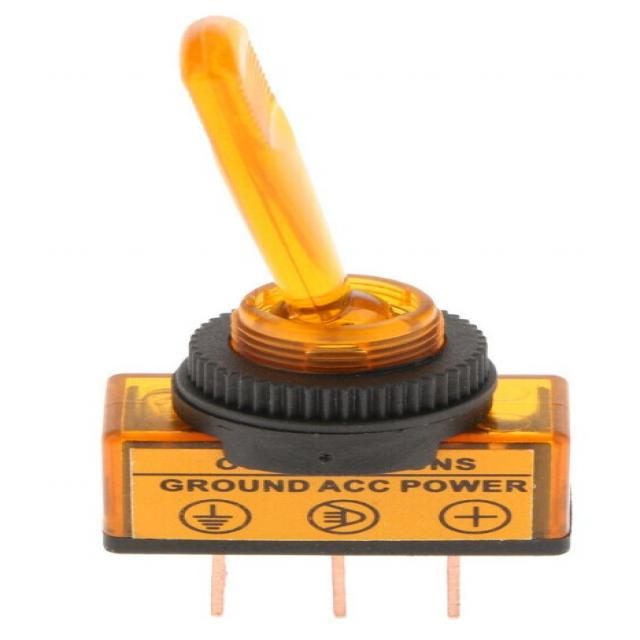toggle switch: (180, 17, 509, 427)
